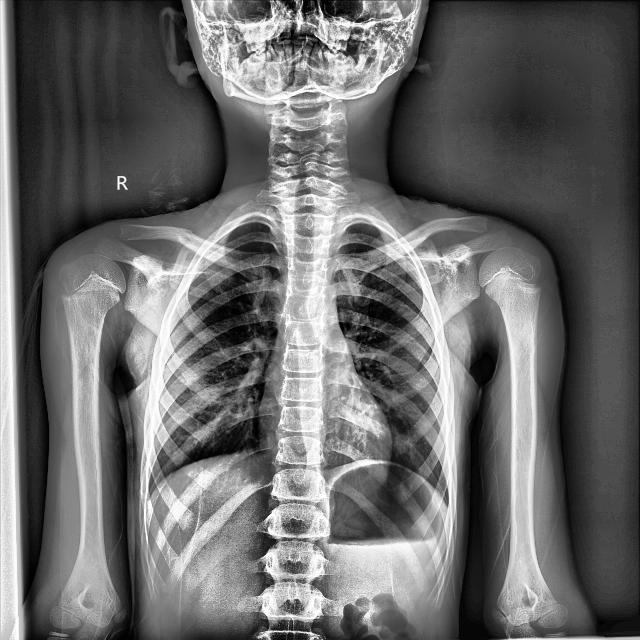Fracture: (173, 223, 198, 252)
